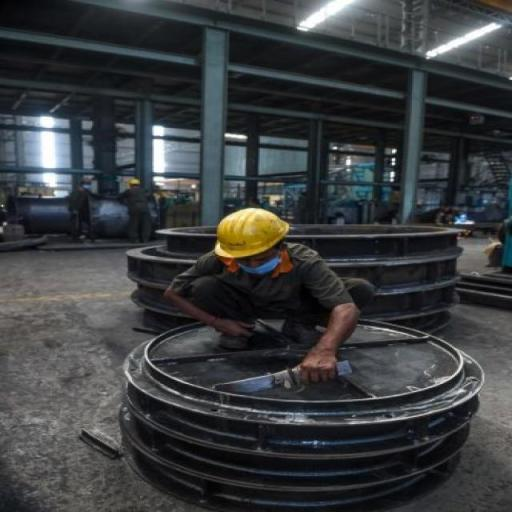helmet: (210, 204, 294, 261)
